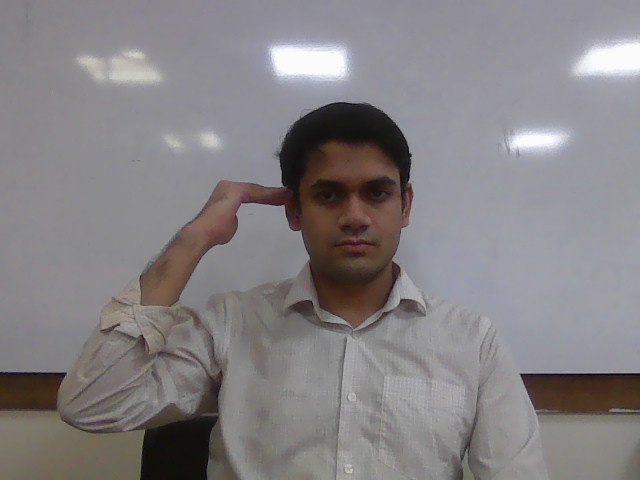Prottibondhi: (193, 178, 297, 247)
